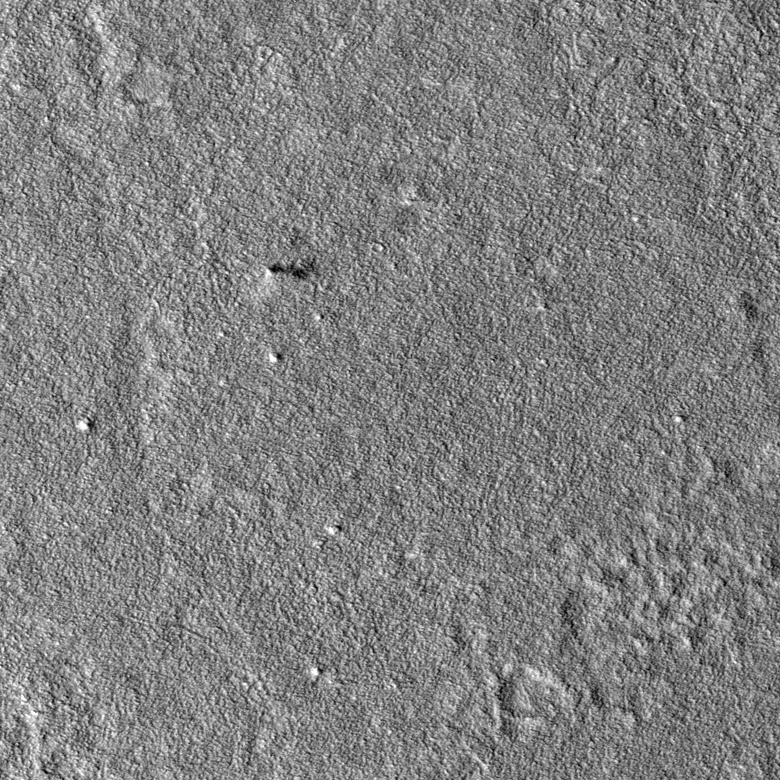dust_devil: (262, 259, 313, 286)
